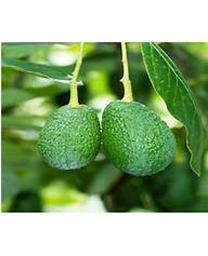avocado: (102, 99, 176, 177), (36, 105, 102, 170)
